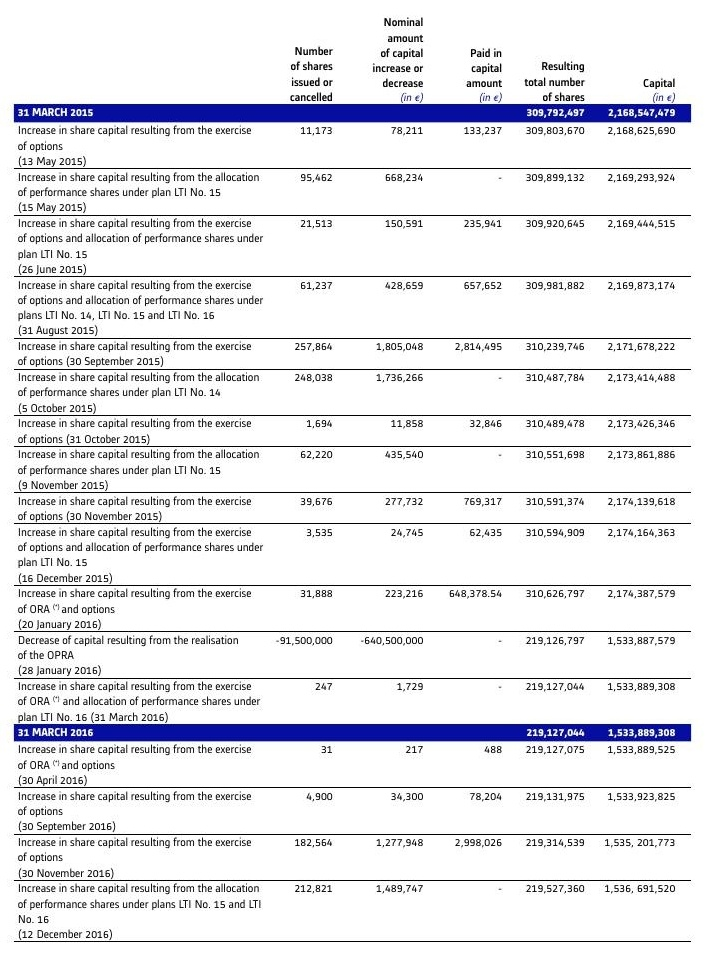table: (0, 0, 710, 953)
